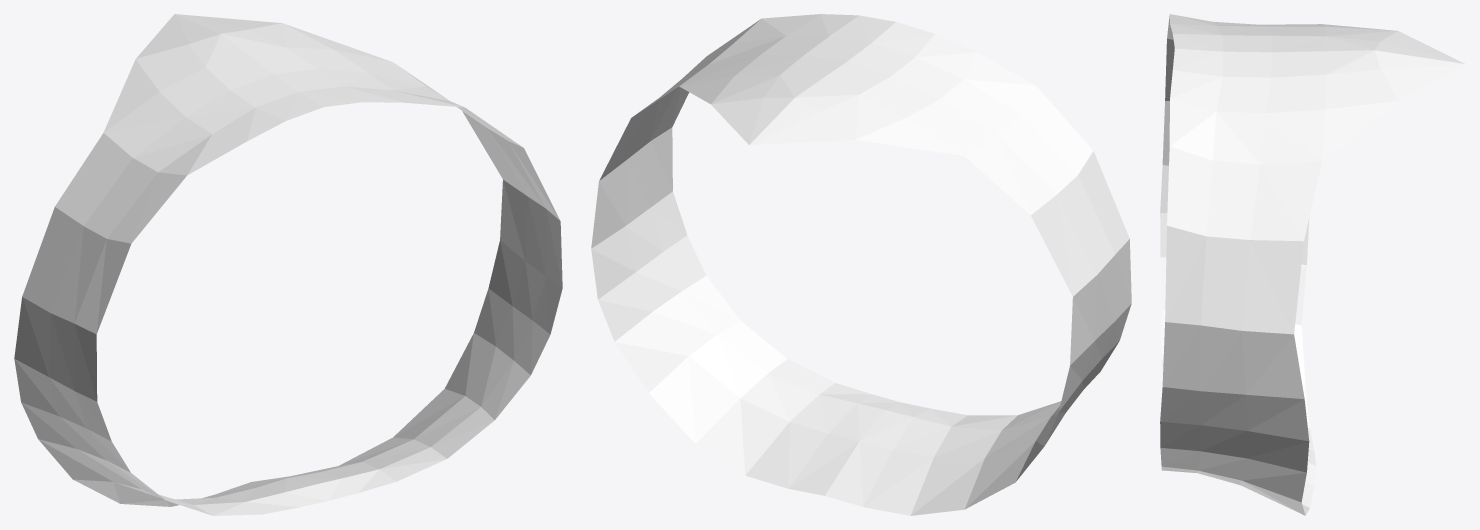
Rendered from pelvis.dae.
3 views of the same model, side by side, from view 1: azimuth 30°, elevation 25°; view 2: azimuth 150°, elevation 25°; view 3: azimuth 270°, elevation 25° (orthographic). The views are drawn at different scales.
Visible parts, largest first — view 1: node; view 2: node; view 3: node.
Boxes of the visible parts, <box> form: node: <box>14,14,562,515</box>; node: <box>591,14,1131,515</box>; node: <box>1160,14,1465,515</box>.
Size of the model in its own units: 0.2634 by 0.2232 by 0.1472.
1 material, 1 textured.
